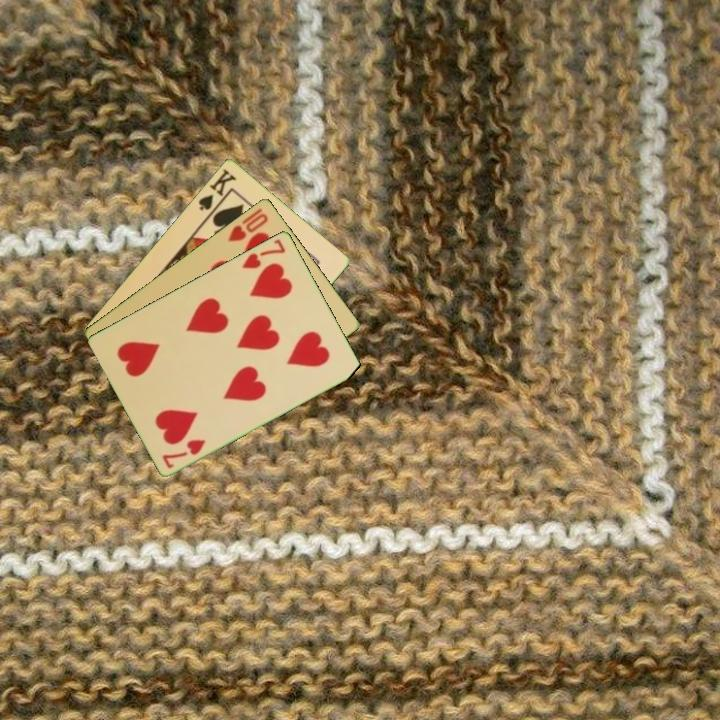10h: (224, 204, 271, 244)
7h: (238, 235, 289, 271), (159, 435, 209, 471)
Ks: (194, 164, 239, 213)
